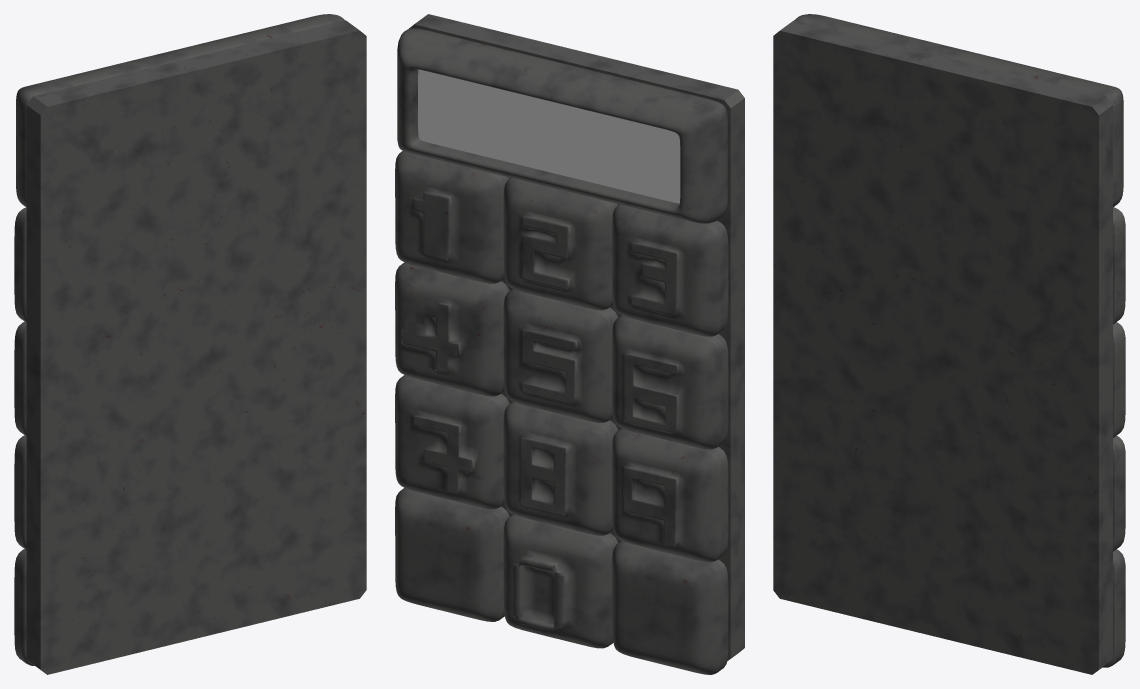
File: key pad.fbx
3 renders of one model, left to right at view 1: azimuth 30°, elevation 25°; view 2: azimuth 150°, elevation 25°; view 3: azimuth 330°, elevation 25°, orthographic.
Visible parts, largest first — view 1: Plane, Plane.002, Plane.006, Plane.001, Plane.004, Plane.005; view 2: Plane.002, Plane.003, Plane, Plane.004, Plane.006, Plane.005, Plane.001, Plane.008, Plane.010, Plane.009, Plane.012, Plane.013 (+3 smaller); view 3: Plane, Plane.002, Plane.014, Plane.011, Plane.012, Plane.013.
Boxes of the visible parts, <box> form: Plane: <box>26,20,366,674</box>; Plane.002: <box>16,14,344,206</box>; Plane.006: <box>14,549,34,665</box>; Plane.001: <box>14,207,26,322</box>; Plane.004: <box>14,321,26,436</box>; Plane.005: <box>14,435,26,549</box>; Plane.002: <box>397,28,727,223</box>; Plane.003: <box>418,69,680,203</box>; Plane: <box>409,14,744,661</box>; Plane.004: <box>612,315,728,449</box>; Plane.006: <box>612,541,728,674</box>; Plane.005: <box>612,428,728,562</box>; Plane.001: <box>612,204,728,336</box>; Plane.008: <box>503,289,618,422</box>; Plane.010: <box>503,514,617,648</box>; Plane.009: <box>503,401,618,535</box>; Plane.012: <box>395,262,509,396</box>; Plane.013: <box>395,375,509,509</box>; Plane: <box>773,20,1112,674</box>; Plane.002: <box>794,14,1123,206</box>; Plane.014: <box>1103,549,1125,667</box>; Plane.011: <box>1113,207,1125,324</box>; Plane.012: <box>1113,322,1125,437</box>; Plane.013: <box>1113,435,1125,551</box>.
Bounding box in the file's own units: 605 × 1010 × 131.
